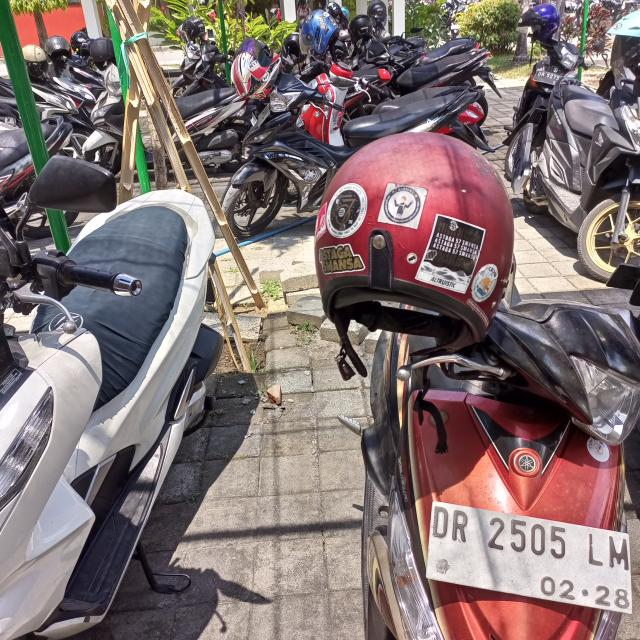plate: (424, 499, 635, 617)
